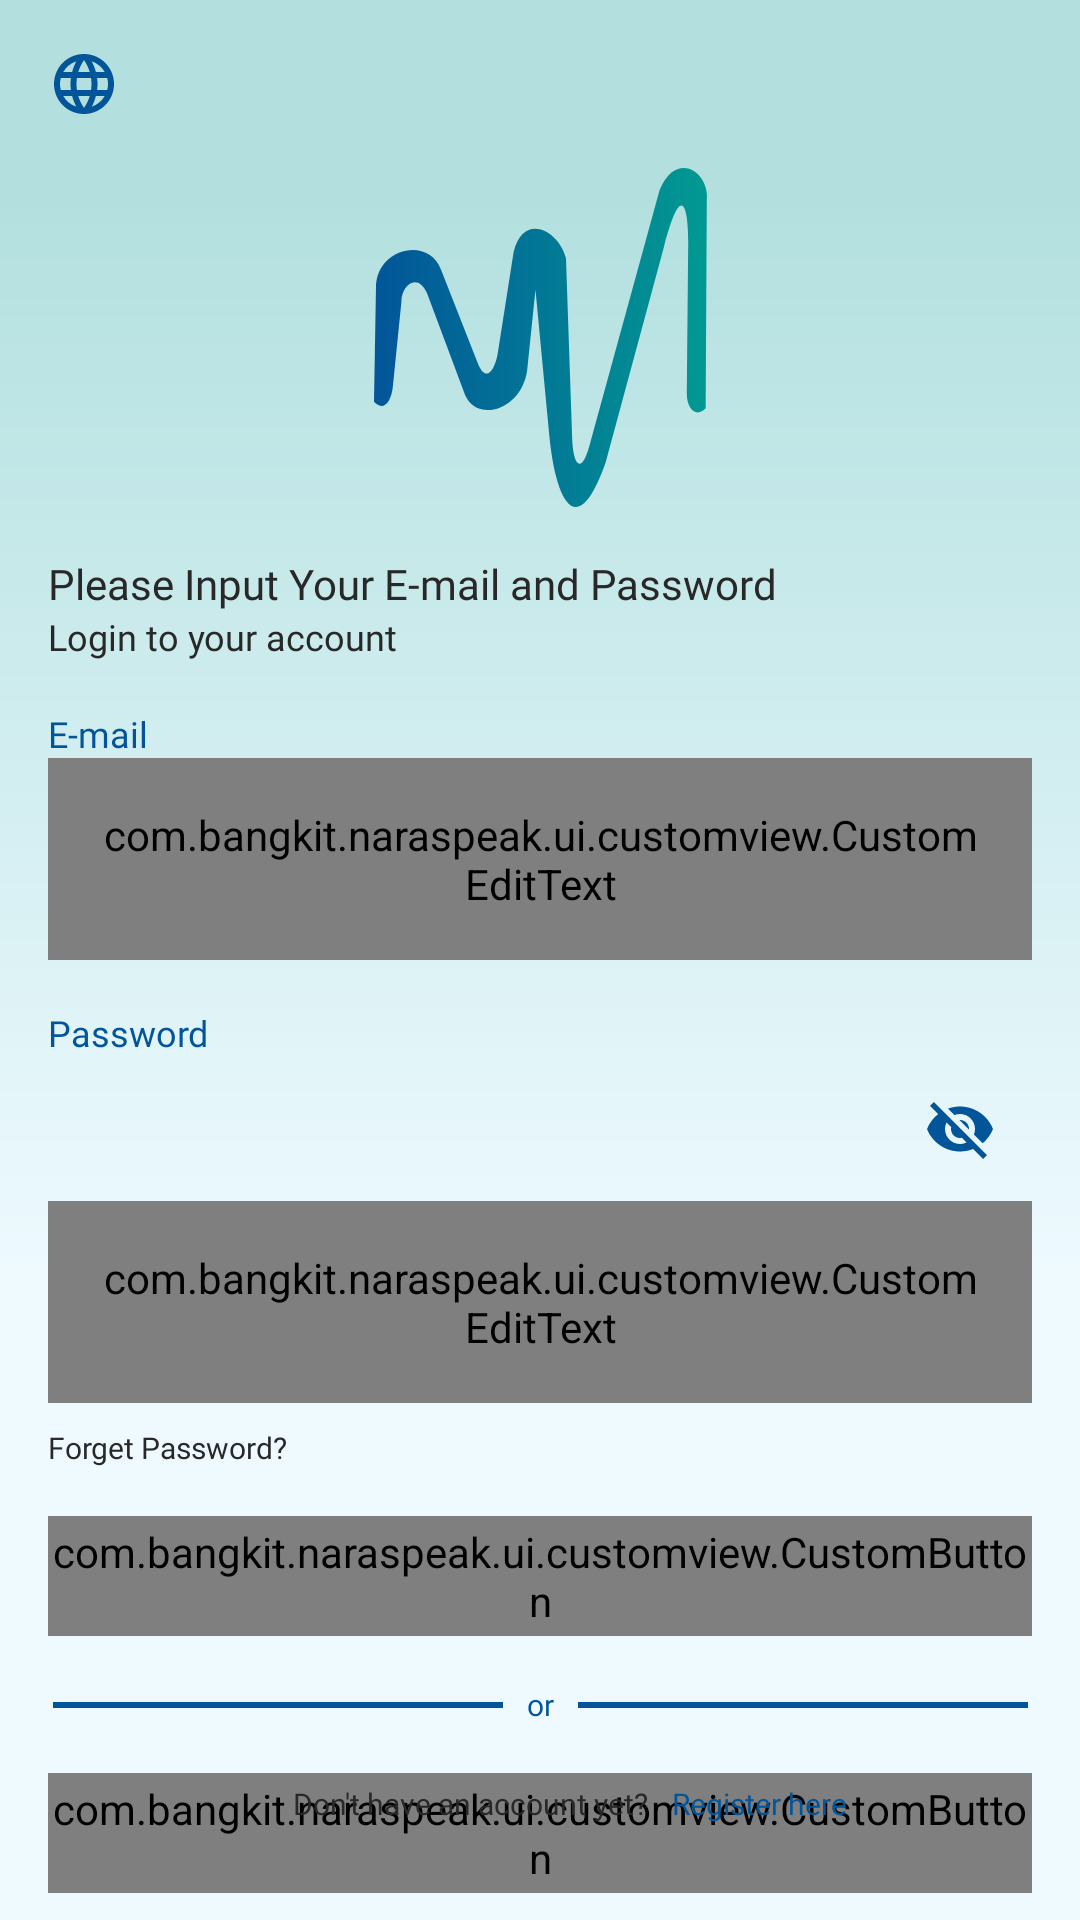

Named icons in this screenshot (1080px×1920px) and their bounding boxes, BBox(x1, y1, x2, y2):
language: BBox(54, 54, 114, 114)
